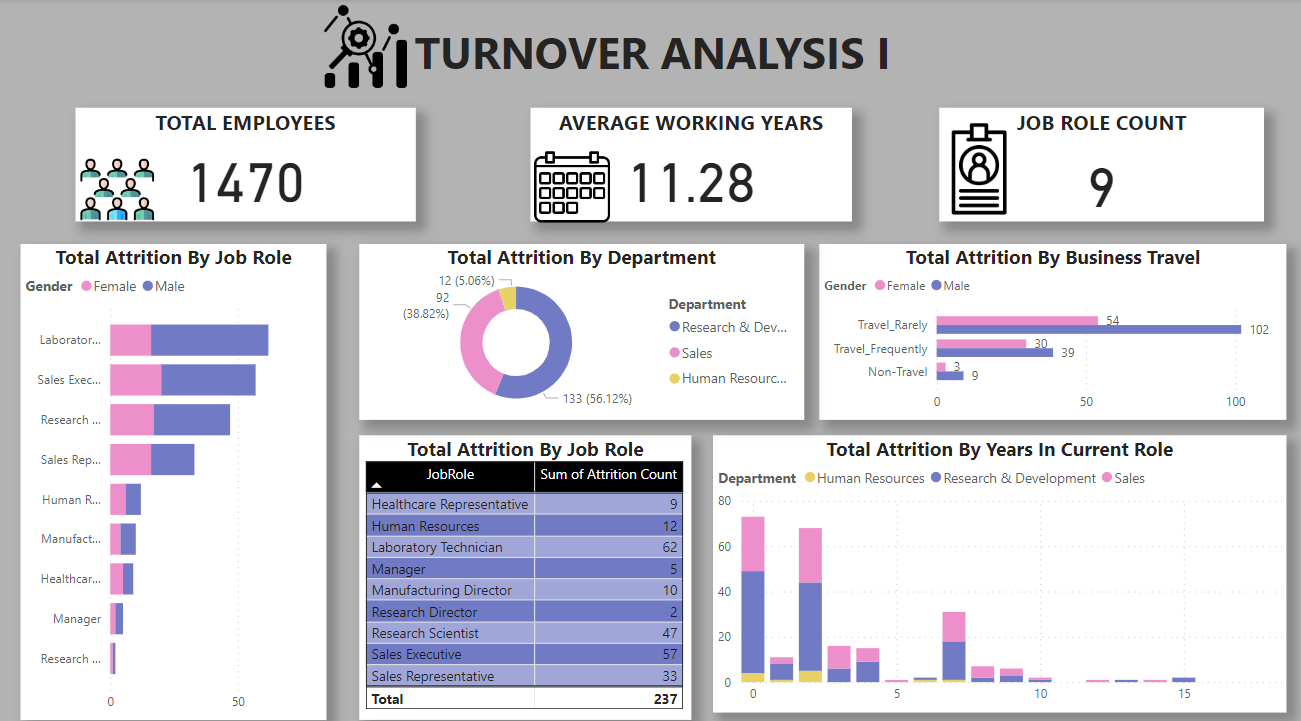

What the dashboard file says about the page in this screenshot:
{"tool":"powerbi","page":{"name":"Turnover Analysis I","canvas":[1280,720],"ordinal":2},"visuals":[{"type":"textbox","box":[0,0,1279.9,106.3],"z":0},{"type":"card","title":"TOTAL EMPLOYEES","fields":{"Values":["Sum(HR-Employee-Attrition.EmployeeCount)"]},"box":[75.8,106.3,332.5,111.2],"z":2000},{"type":"card","title":"AVERAGE WORKING YEARS","fields":{"Values":["Avg(HR-Employee-Attrition.TotalWorkingYears)"]},"box":[520.7,106.3,314.2,111.2],"z":4000},{"type":"card","title":"JOB ROLE COUNT","fields":{"Values":["Count(HR-Employee-Attrition.JobRole)"]},"box":[920.5,106.3,317.8,111.2],"z":5000},{"type":"barChart","title":"Total Attrition By Job Role","fields":{"Category":["HR-Employee-Attrition.JobRole"],"Series":["HR-Employee-Attrition.Gender"],"Y":["Sum(HR-Employee-Attrition.Attrition Count)"]},"box":[22,239.6,299.5,465.7],"z":10000},{"type":"clusteredBarChart","title":"Total Attrition By Business Travel","fields":{"Y":["Sum(HR-Employee-Attrition.Attrition Count)"],"Category":["HR-Employee-Attrition.BusinessTravel"],"Series":["HR-Employee-Attrition.Gender"]},"box":[803.1,239.6,457.2,172.4],"z":11000},{"type":"columnChart","title":"Total Attrition By Years In Current Role","fields":{"Category":["HR-Employee-Attrition.YearsInCurrentRole"],"Y":["Sum(HR-Employee-Attrition.Attrition Count)"],"Series":["HR-Employee-Attrition.Department"]},"box":[699.2,426.6,561.1,271.4],"z":12000},{"type":"tableEx","title":"Total Attrition By Job Role","fields":{"Values":["HR-Employee-Attrition.JobRole","Sum(HR-Employee-Attrition.Attrition Count)"]},"box":[353.3,426.6,325.2,278.7],"z":14000},{"type":"donutChart","title":"Total Attrition By Department","fields":{"Y":["Sum(HR-Employee-Attrition.Attrition Count)"],"Category":["HR-Employee-Attrition.Department"]},"box":[353.3,239.6,435.2,172.4],"z":15000},{"type":"image","box":[311.7,0,96.6,92.9],"z":16001},{"type":"image","box":[75.8,145.5,81.9,81.9],"z":16002},{"type":"image","box":[908.3,114.9,102.7,102.7],"z":16003},{"type":"image","box":[515.9,140.6,91.7,86.8],"z":16004}]}

Visuals, with their boxes in screenshot pixels (x1, y1, x2, y2), scaled from the page's 1280x720 canvas onto the 1301x721 screenshot:
textbox: {"x1": 0, "y1": 0, "x2": 1300, "y2": 106}
"TOTAL EMPLOYEES" card: {"x1": 77, "y1": 106, "x2": 415, "y2": 218}
"AVERAGE WORKING YEARS" card: {"x1": 529, "y1": 106, "x2": 849, "y2": 218}
"JOB ROLE COUNT" card: {"x1": 936, "y1": 106, "x2": 1259, "y2": 218}
"Total Attrition By Job Role" barChart: {"x1": 22, "y1": 240, "x2": 327, "y2": 706}
"Total Attrition By Business Travel" clusteredBarChart: {"x1": 816, "y1": 240, "x2": 1281, "y2": 413}
"Total Attrition By Years In Current Role" columnChart: {"x1": 711, "y1": 427, "x2": 1281, "y2": 699}
"Total Attrition By Job Role" tableEx: {"x1": 359, "y1": 427, "x2": 690, "y2": 706}
"Total Attrition By Department" donutChart: {"x1": 359, "y1": 240, "x2": 801, "y2": 413}
image: {"x1": 317, "y1": 0, "x2": 415, "y2": 93}
image: {"x1": 77, "y1": 146, "x2": 160, "y2": 228}
image: {"x1": 923, "y1": 115, "x2": 1028, "y2": 218}
image: {"x1": 524, "y1": 141, "x2": 618, "y2": 228}
